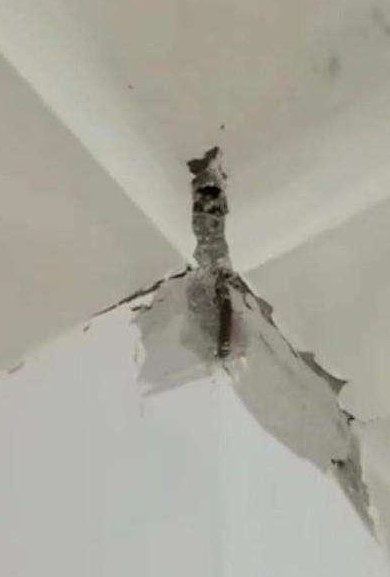Exposed reinforcement: (214, 272, 234, 357)
Spalling: (233, 272, 380, 539), (128, 262, 217, 399), (185, 144, 230, 261)
